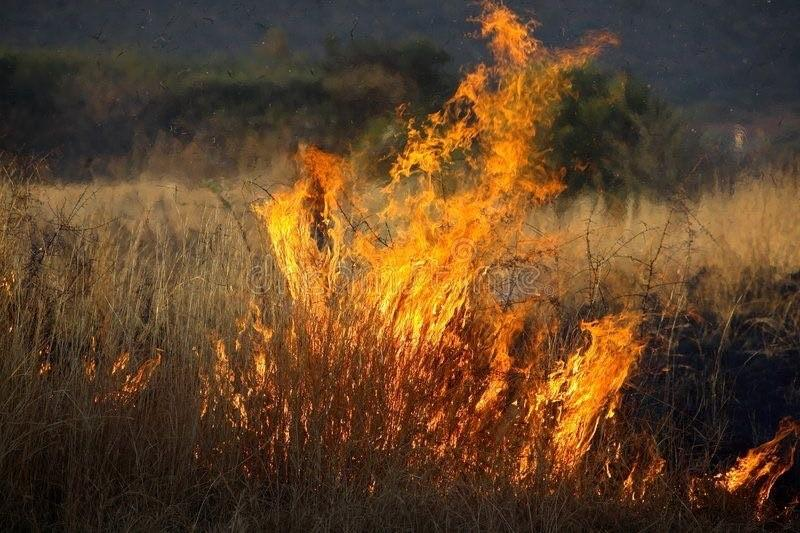fire: (221, 169, 639, 490), (386, 7, 651, 418), (673, 401, 789, 522)
